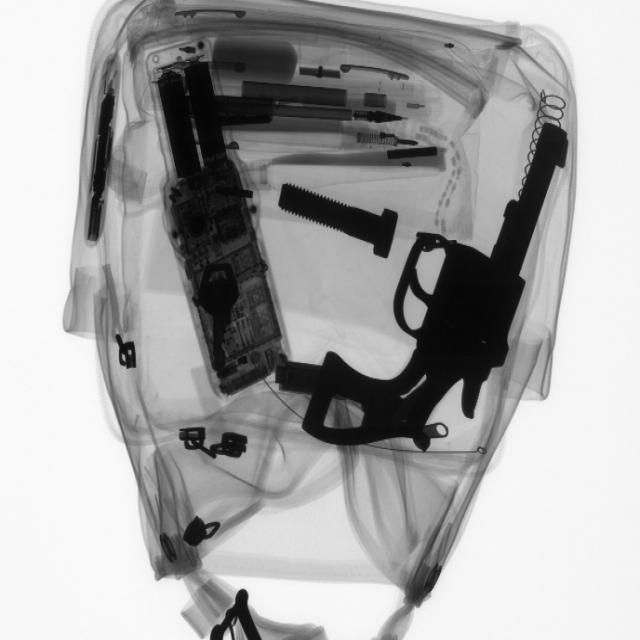GUN: (286, 133, 566, 462), (162, 589, 338, 640)
